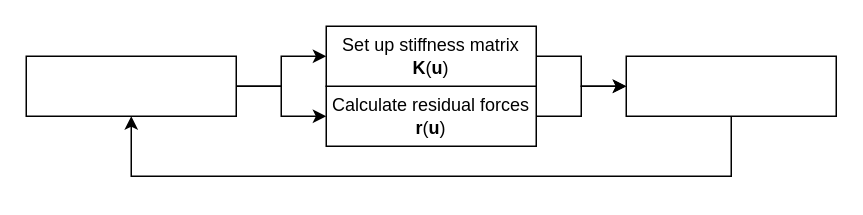
Some shapes in this 863 by 215 pixel diagram are drawn without their labels. Each missing label, with the centre of its shape:
Solve linear system Kr = Δ u: the point at 730,85
Update displacement u += Δ u: the point at 130,85
